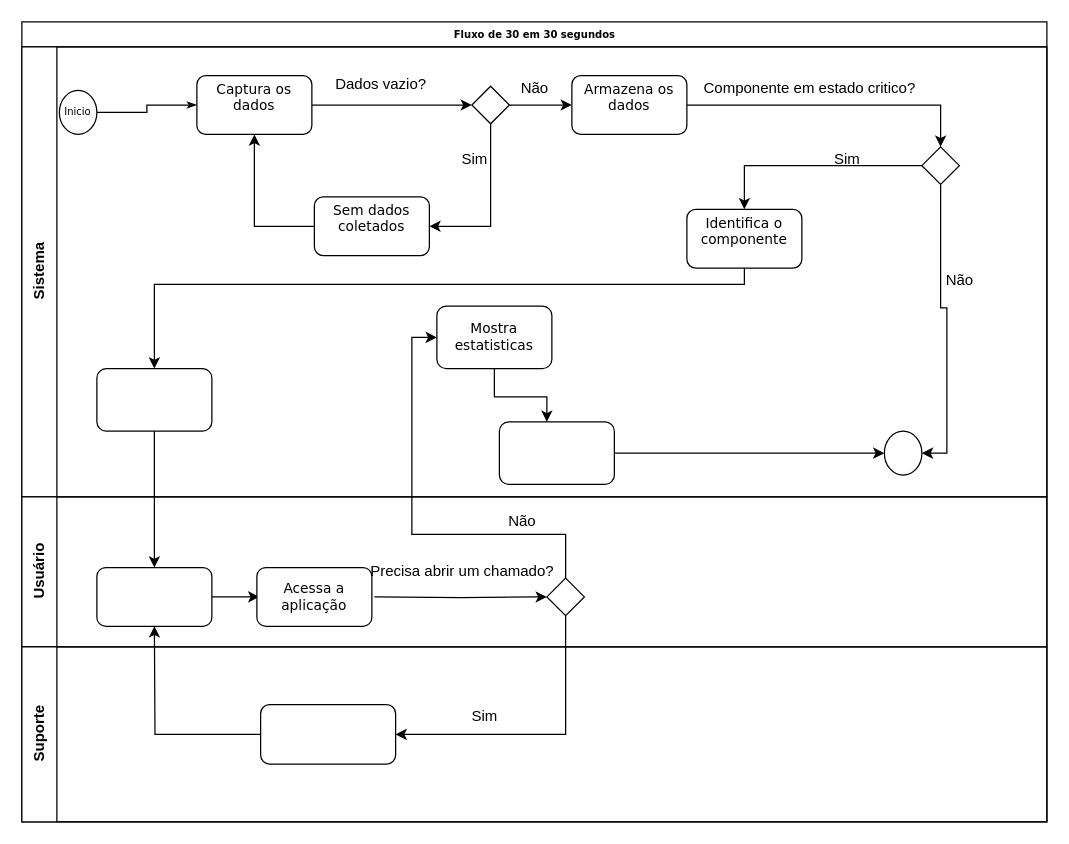
Image size: 1069x844. Some labels were removed from this diagram. The shapes that lost their labels are listed below. From the top down, each one's centre as x and y in pixels, then its label:
(154,399): Notifica sobre o componente via Telegram
(556,452): Exibe dashboard
(902,452): Fim
(154,596): Acessa as notificações
(327,733): Suporte resolve problema
